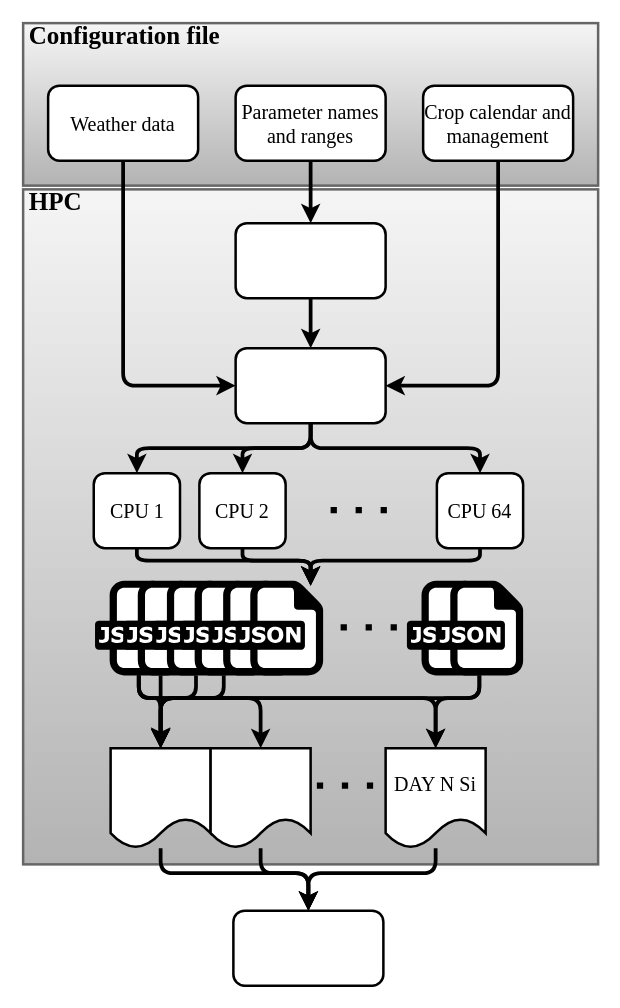
The diagram is 620 pixels wide and 1008 high, and some of its shapes have lost their labels. Here are the shapes that lost their labels. From the top down, the centre of each, then its label:
At point (310, 260): "Parameter sets".
At point (310, 385): "Simulaiton 1, 2,..., n".
At point (160, 797): "DAY 1 Si".
At point (260, 797): "DAY 2 Si".
At point (308, 947): "Further Analysis".
